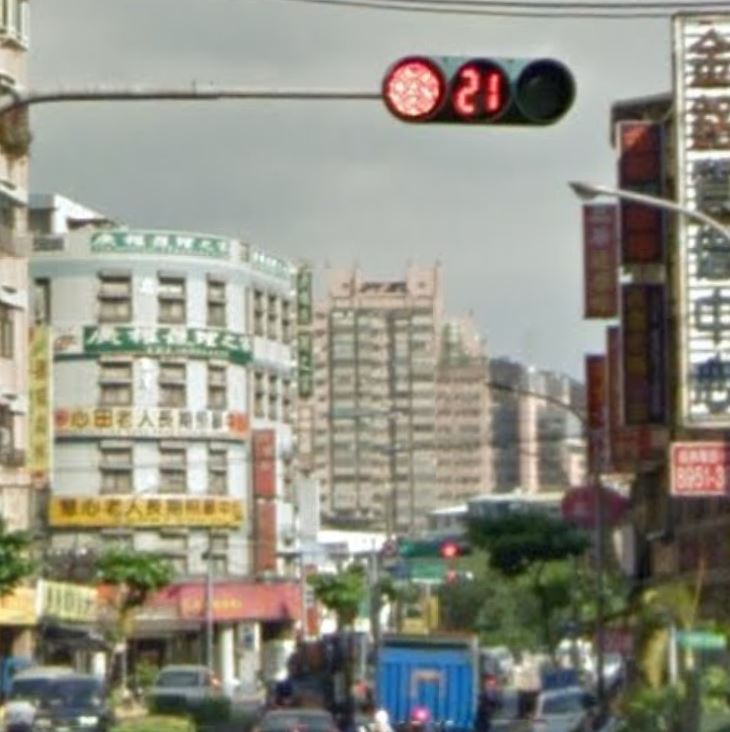Traffic_light_red: (380, 53, 577, 126)
